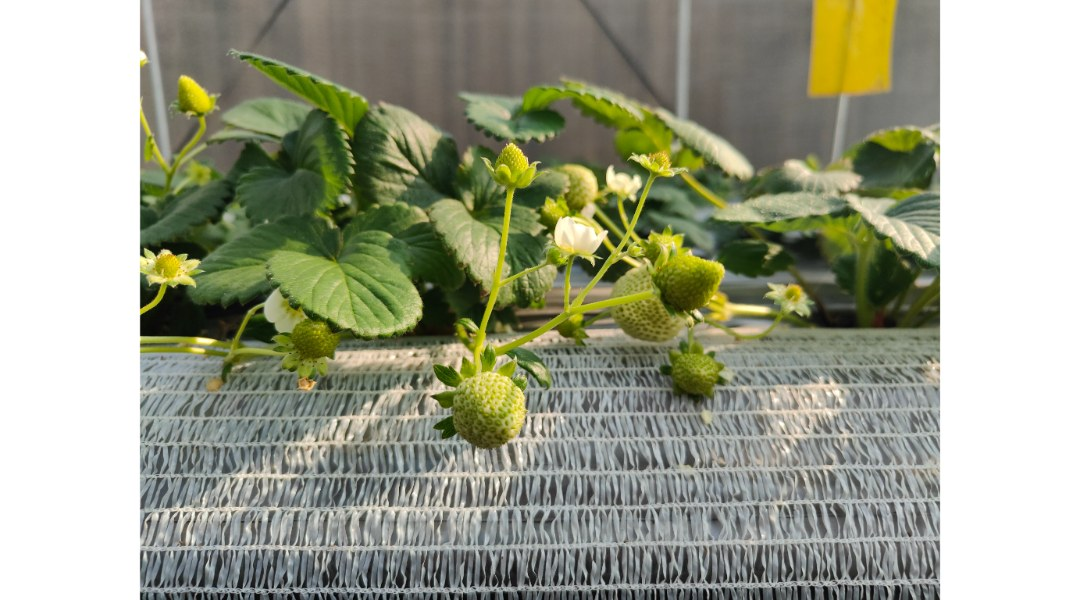berry: (432, 357, 538, 452), (638, 238, 734, 321), (615, 265, 682, 352), (661, 336, 734, 414), (135, 234, 208, 303), (474, 124, 542, 194), (287, 303, 342, 380), (167, 66, 217, 120), (622, 144, 688, 176)
flower: (263, 275, 311, 349), (762, 273, 834, 322), (552, 211, 604, 265), (601, 166, 638, 200)
strain: (104, 89, 162, 160), (500, 314, 564, 357), (489, 191, 522, 270), (122, 328, 225, 351), (470, 287, 501, 350), (585, 295, 654, 311)
